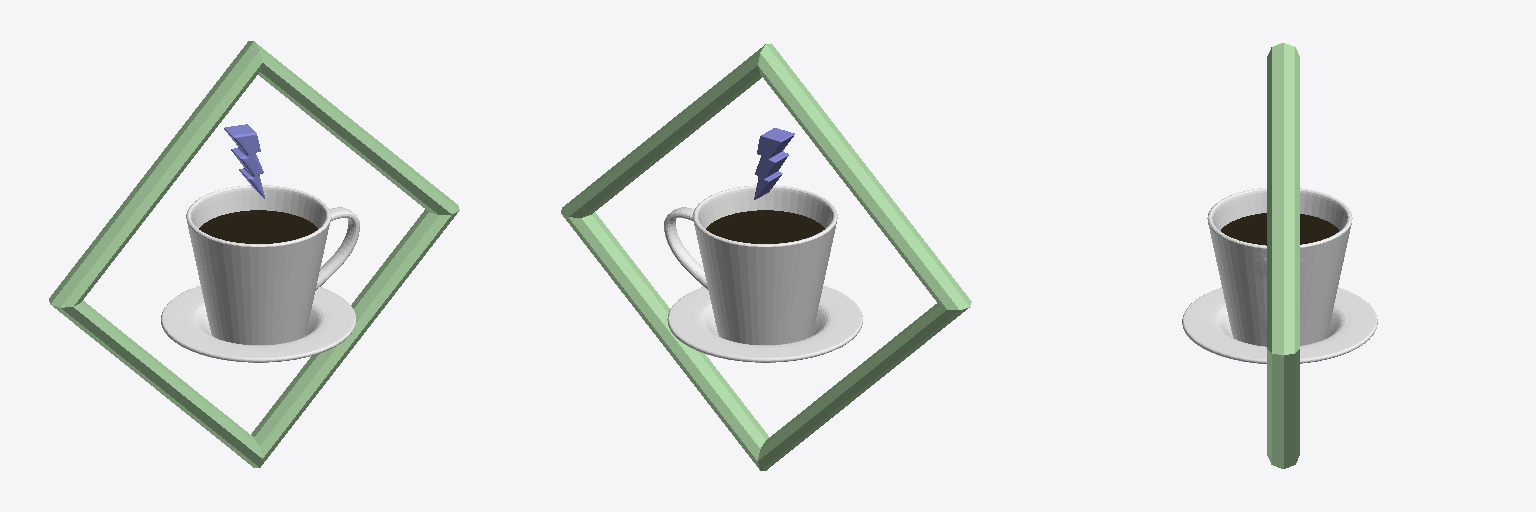
The model's file is coffee.obj.
3 views of the same model, side by side, from view 1: azimuth 30°, elevation 25°; view 2: azimuth 150°, elevation 25°; view 3: azimuth 270°, elevation 25° (orthographic).
Parts seen in each view (by area): view 1: Torus, coffe_cup.2, plate, coffee, 21325_Lightning_Bolt_v1.obj; view 2: Torus, coffe_cup.2, plate, coffee, 21325_Lightning_Bolt_v1.obj; view 3: Torus, coffe_cup.2, plate, coffee.
Part boxes in pixels (x1,y1,x2,y2): Torus: (49, 41, 459, 467); coffe_cup.2: (186, 185, 359, 344); plate: (161, 285, 356, 362); coffee: (199, 210, 317, 243); 21325_Lightning_Bolt_v1.obj: (224, 124, 264, 198); Torus: (561, 44, 971, 470); coffe_cup.2: (664, 185, 837, 344); plate: (667, 285, 862, 362); coffee: (706, 210, 824, 243); 21325_Lightning_Bolt_v1.obj: (754, 128, 794, 199); Torus: (1267, 43, 1299, 468); coffe_cup.2: (1207, 188, 1352, 346); plate: (1182, 287, 1377, 363); coffee: (1221, 213, 1338, 245).
Size of the model in its own units: 28 by 28 by 11.64.